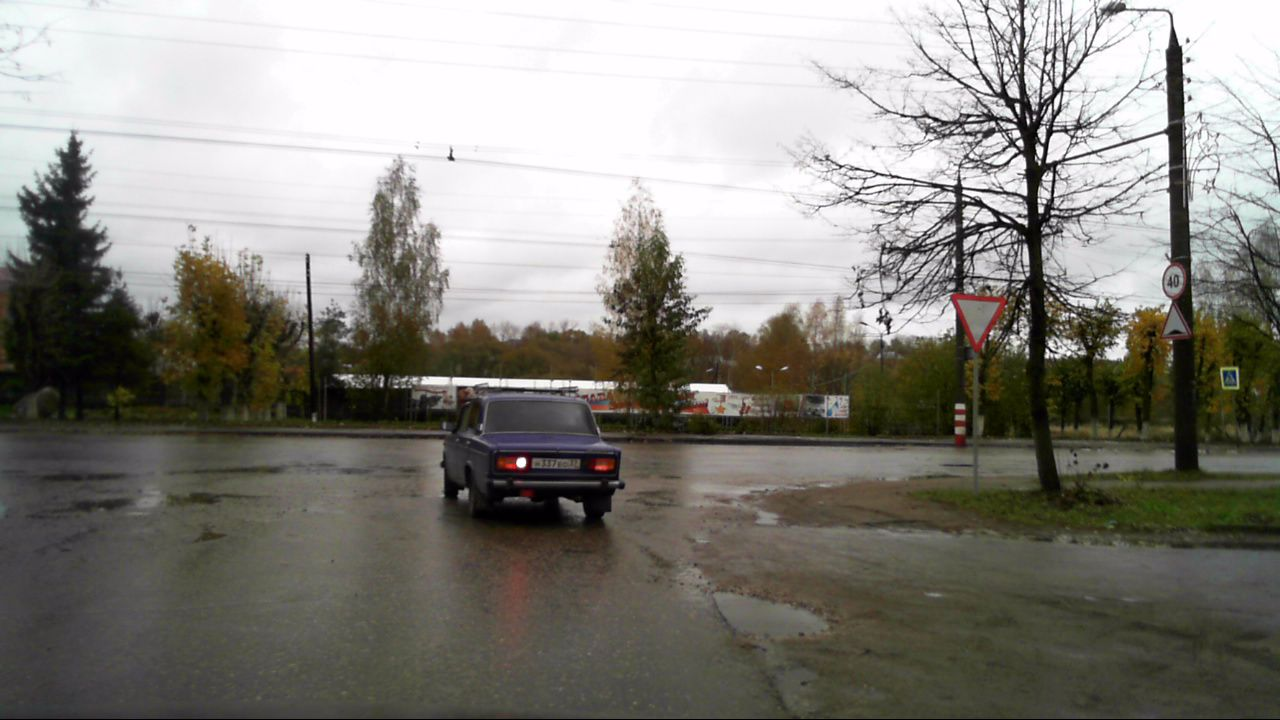speed_warning_40: (1162, 263, 1190, 301)
